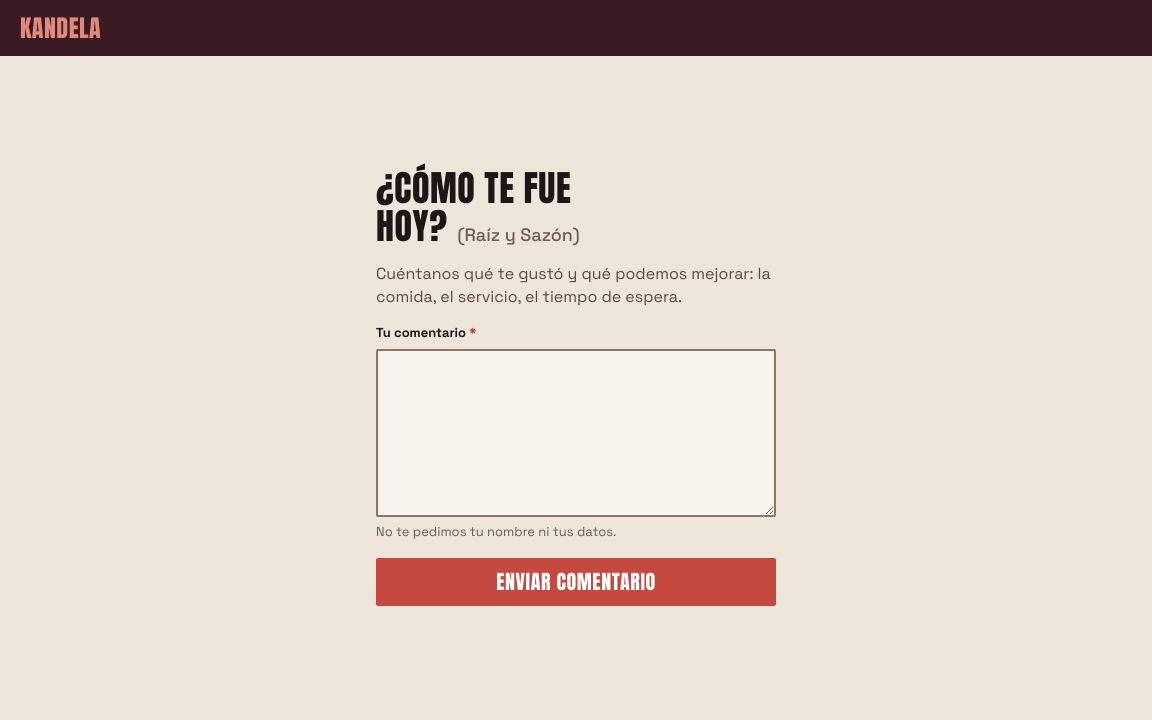
Test case: ResenaCliente › si el servidor no responde lo dice y conserva el comentario
Type "Nos atendieron muy rápido." into the text box labelled "Tu comentario *".
click(576, 433); type("Nos atendieron muy rápido.")  # box [376,349,776,517]
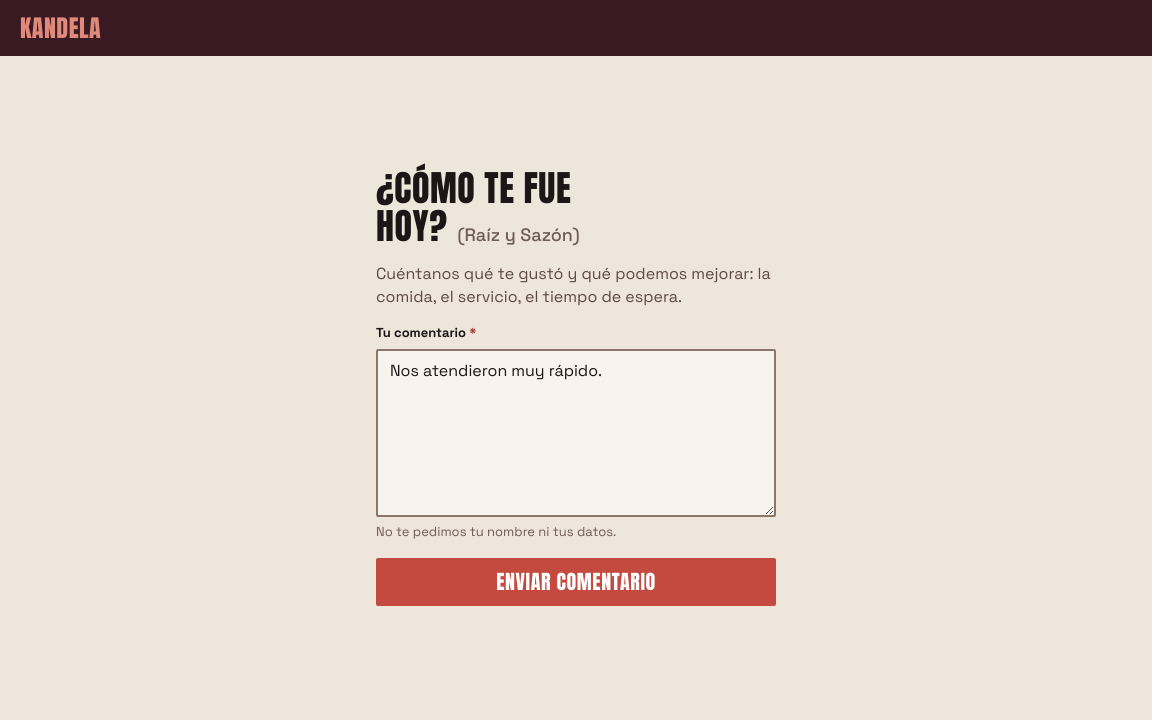
Click the button "Enviar comentario".
click(576, 582)  # box [376,558,776,606]
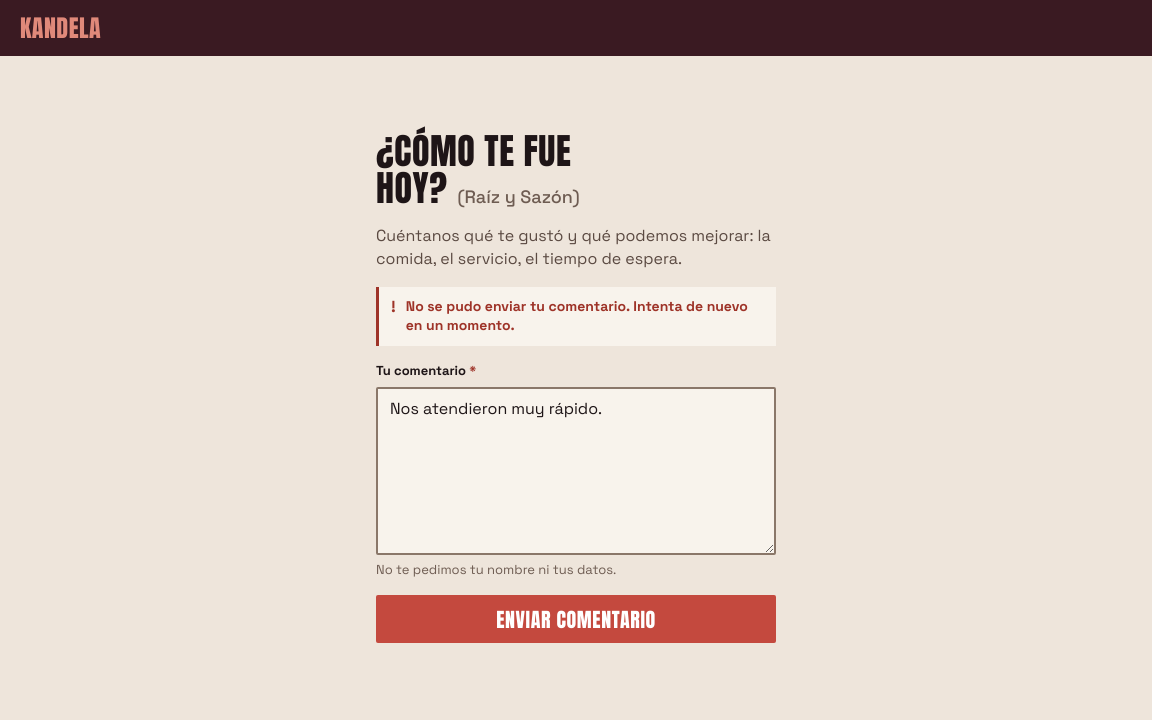
Now the text "No se pudo enviar tu comentario" is shown, box [406,296,748,334]
